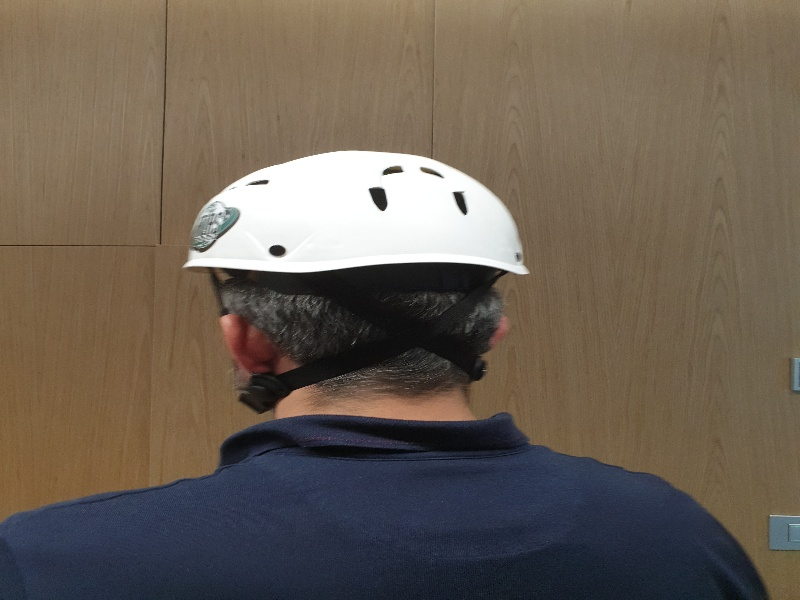Baret: (190, 158, 533, 273)
